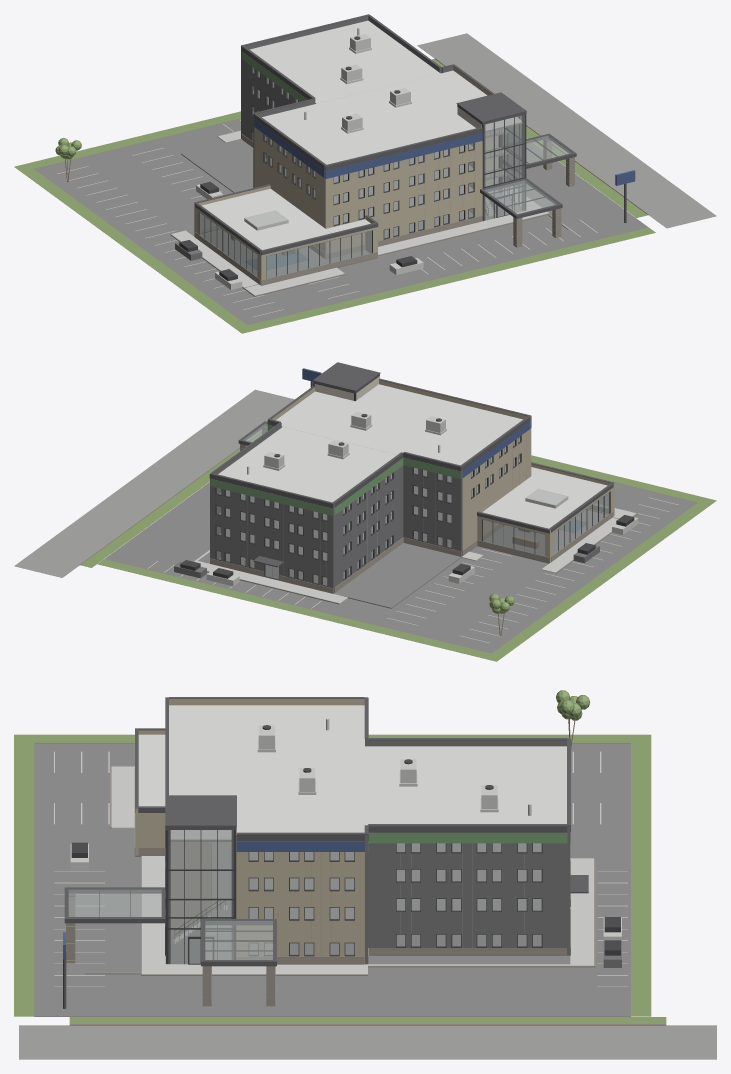
Rendered from clay-limited-service-hotel-clay-v004.glb.
3 views of the same model, one above another, from view 1: azimuth 30°, elevation 25°; view 2: azimuth 150°, elevation 25°; view 3: azimuth 270°, elevation 25° (orthographic). The views are drawn at different scales.
Parts seen in each view (by area): view 1: CLAY_FOUNDATION, CLAY_MEMBRANE, CLAY_WALL, CLAY_FLOOR, CLAY_GLASS, CLAY_PLANTING, CLAY_PALE, CLAY_CAP, CLAY_TRIM, CLAY_STONE, CLAY_CHARCOAL, CLAY_ACCENT (+3 smaller); view 2: CLAY_FOUNDATION, CLAY_MEMBRANE, CLAY_CHARCOAL, CLAY_FLOOR, CLAY_PLANTING, CLAY_GLASS, CLAY_PALE, CLAY_WALL, CLAY_CAP, CLAY_TRIM, CLAY_STONE, CLAY_GREEN (+3 smaller); view 3: CLAY_FOUNDATION, CLAY_MEMBRANE, CLAY_FLOOR, CLAY_CHARCOAL, CLAY_PLANTING, CLAY_GLASS, CLAY_WALL, CLAY_PALE, CLAY_CAP, CLAY_STONE, CLAY_TRIM, CLAY_INTERIOR (+3 smaller).
Boxes of the visible parts, x1=… form: CLAY_FOUNDATION: x1=34, y1=118, x2=648, y2=325; CLAY_MEMBRANE: x1=201, y1=20, x2=521, y2=249; CLAY_WALL: x1=194, y1=66, x2=491, y2=285; CLAY_FLOOR: x1=253, y1=33, x2=716, y2=228; CLAY_GLASS: x1=199, y1=67, x2=571, y2=278; CLAY_PLANTING: x1=14, y1=59, x2=655, y2=333; CLAY_PALE: x1=57, y1=27, x2=597, y2=316; CLAY_CAP: x1=194, y1=14, x2=626, y2=255; CLAY_TRIM: x1=179, y1=66, x2=557, y2=281; CLAY_STONE: x1=170, y1=58, x2=648, y2=296; CLAY_CHARCOAL: x1=175, y1=16, x2=453, y2=260; CLAY_ACCENT: x1=254, y1=119, x2=635, y2=185; CLAY_FOUNDATION: x1=104, y1=463, x2=697, y2=653; CLAY_MEMBRANE: x1=218, y1=384, x2=607, y2=528; CLAY_CHARCOAL: x1=174, y1=422, x2=599, y2=593; CLAY_FLOOR: x1=14, y1=389, x2=519, y2=577; CLAY_PLANTING: x1=80, y1=432, x2=716, y2=661; CLAY_GLASS: x1=217, y1=423, x2=609, y2=585; CLAY_PALE: x1=148, y1=411, x2=678, y2=642; CLAY_WALL: x1=271, y1=380, x2=614, y2=562; CLAY_CAP: x1=209, y1=362, x2=614, y2=567; CLAY_TRIM: x1=180, y1=376, x2=634, y2=586; CLAY_STONE: x1=79, y1=428, x2=637, y2=604; CLAY_GREEN: x1=210, y1=424, x2=461, y2=515; CLAY_FOUNDATION: x1=34, y1=743, x2=630, y2=1016; CLAY_MEMBRANE: x1=138, y1=705, x2=566, y2=839; CLAY_FLOOR: x1=19, y1=839, x2=716, y2=1059; CLAY_CHARCOAL: x1=365, y1=738, x2=621, y2=967; CLAY_PLANTING: x1=14, y1=690, x2=666, y2=1023; CLAY_GLASS: x1=68, y1=830, x2=541, y2=963; CLAY_WALL: x1=135, y1=699, x2=364, y2=963; CLAY_PALE: x1=54, y1=718, x2=627, y2=986; CLAY_CAP: x1=63, y1=697, x2=588, y2=1008; CLAY_STONE: x1=66, y1=765, x2=666, y2=1025; CLAY_TRIM: x1=71, y1=826, x2=620, y2=964; CLAY_INTERIOR: x1=170, y1=830, x2=236, y2=959.
Bounding box in the file's own units: 76 × 15.55 × 69.5.
